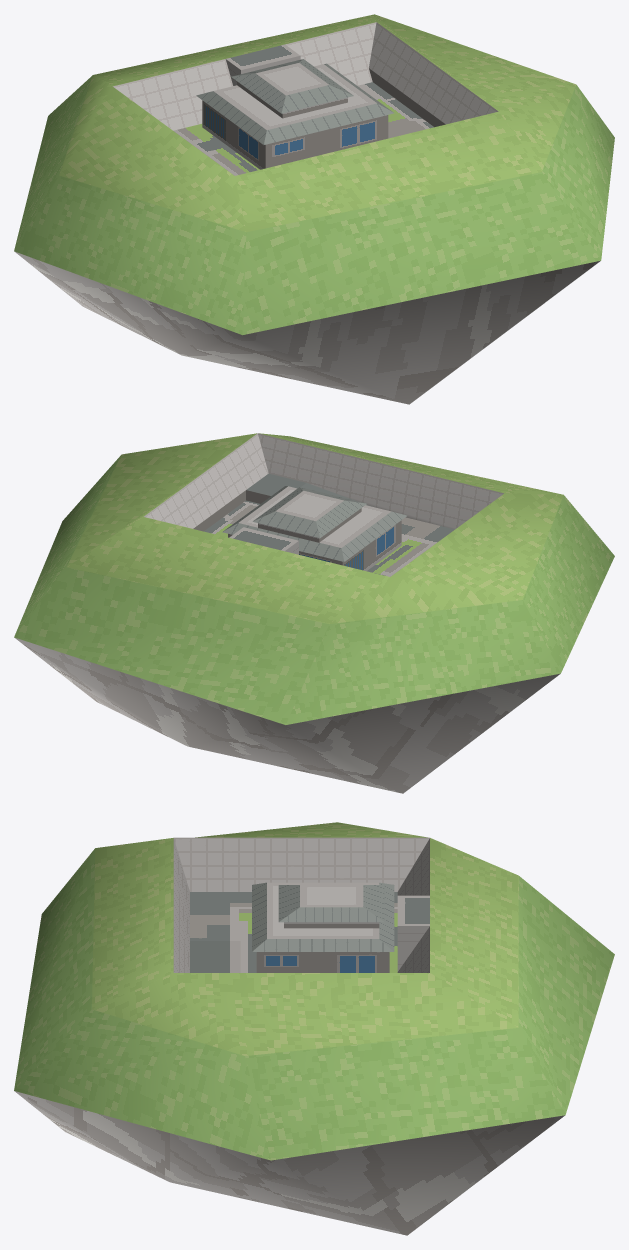
Rendered from 054b_Takeda_Residence.glb.
3 renders of one model, top to bottom at view 1: azimuth 30°, elevation 25°; view 2: azimuth 150°, elevation 25°; view 3: azimuth 270°, elevation 25°, orthographic. The views are drawn at different scales.
Visible parts, largest first — view 1: part_0; view 2: part_0; view 3: part_0.
Boxes of the visible parts, x1,y1,x2,y2 form: part_0: [14, 14, 614, 404]; part_0: [14, 433, 614, 793]; part_0: [14, 822, 614, 1235].
Bounding box in the file's own units: 51.52 × 23.9 × 45.09.
Materials: 1 (1 with a texture image).
